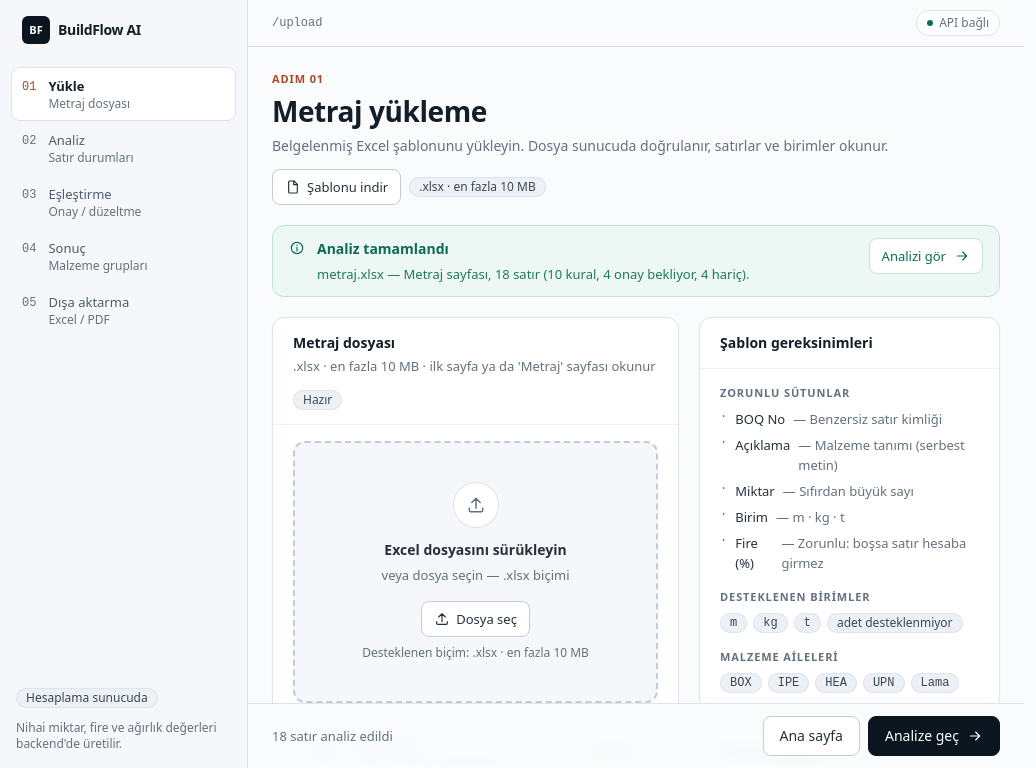
Test: ExportPage › indirme blob’unu tarayıcıya verir (URL oluşturulur)
Earlier steps of the test are not shown.
Later steps or results of the test are not shown.
Check: the text "Analiz tamamlandı" is shown, box [317,239,449,258]
Click the button "Analize geç": (934, 736) [868,716,1000,756]
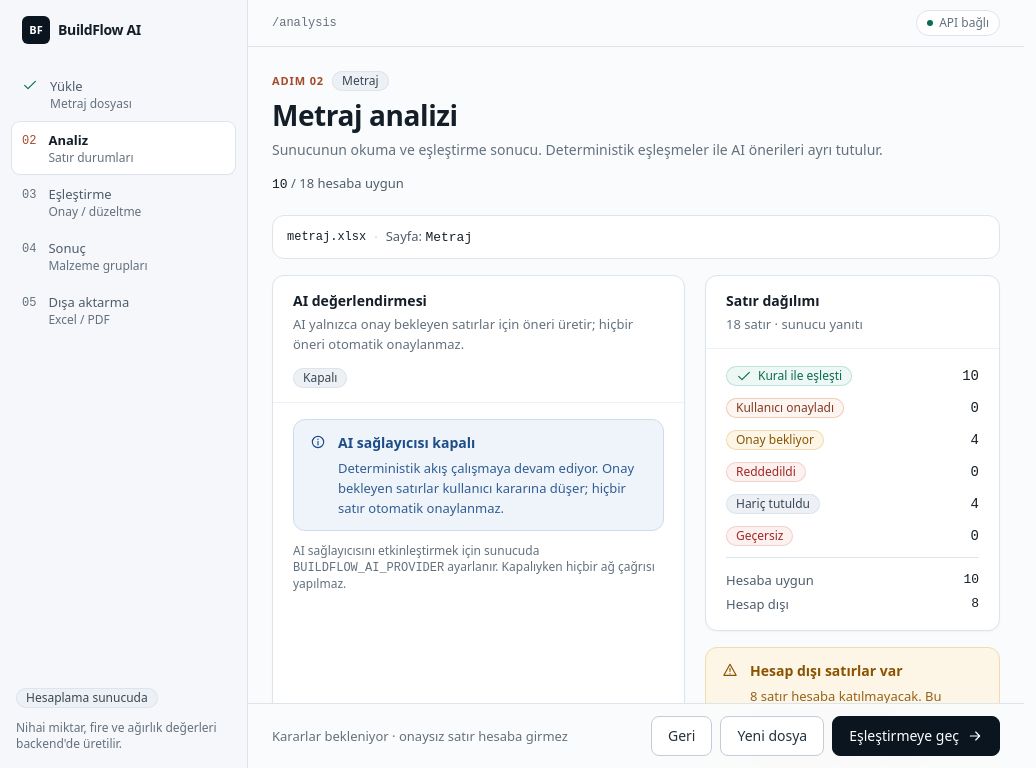
Check: the heading "Metraj analizi" is shown, box [272,96,458,134]
Click the button "Eşleştirmeye geç": (916, 736) [832,716,1000,756]
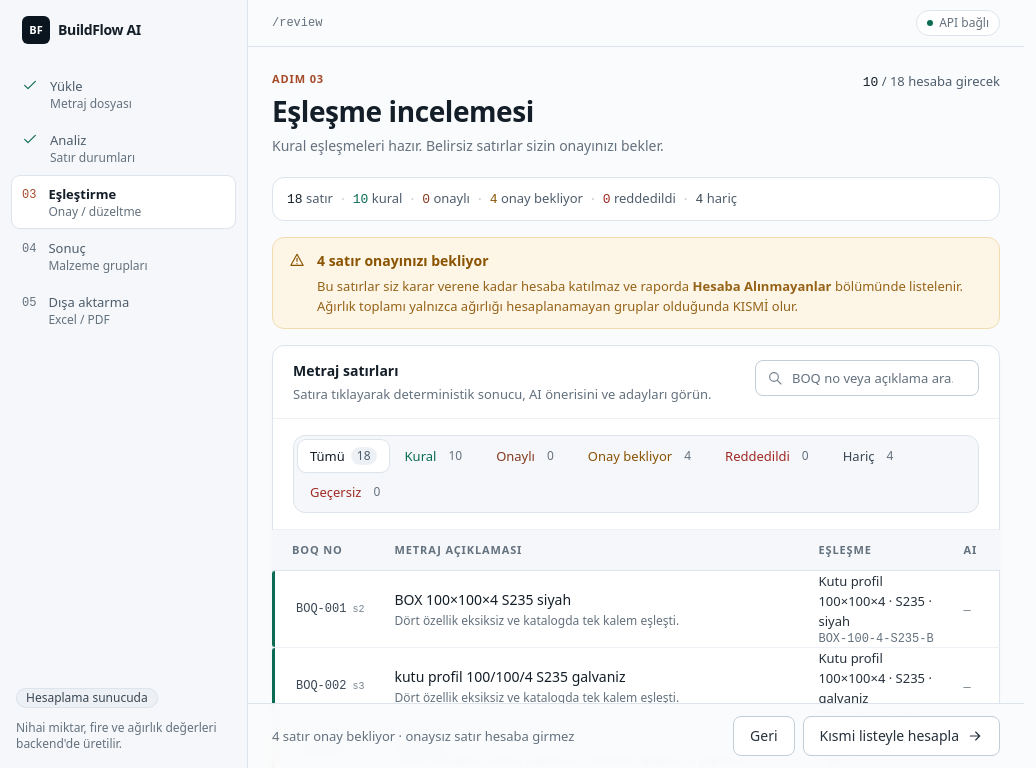
Check: the heading "Eşleşme incelemesi" is shown, box [272,92,534,130]
Click the button "Kısmi listeyle hesapla": (901, 736) [803,716,1000,756]
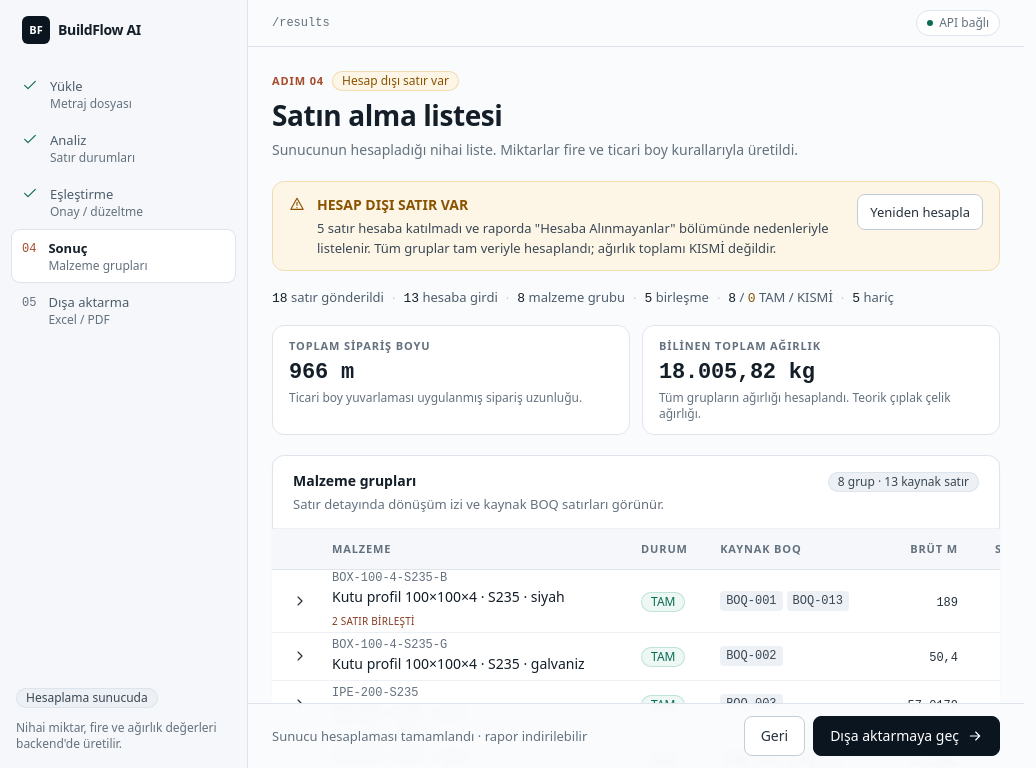
Check: the heading "Satın alma listesi" is shown, box [272,96,502,134]
Click the button "Dışa aktarmaya geç": (907, 736) [813,716,1000,756]
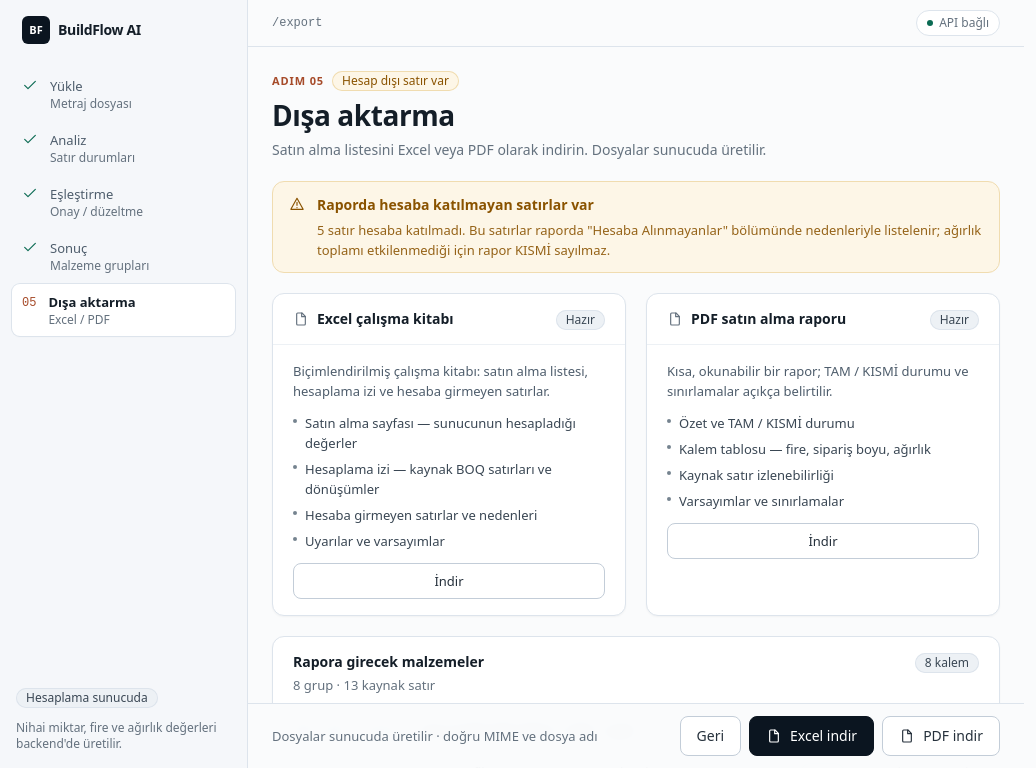
Check: the heading "Dışa aktarma" is shown, box [272,96,455,134]
